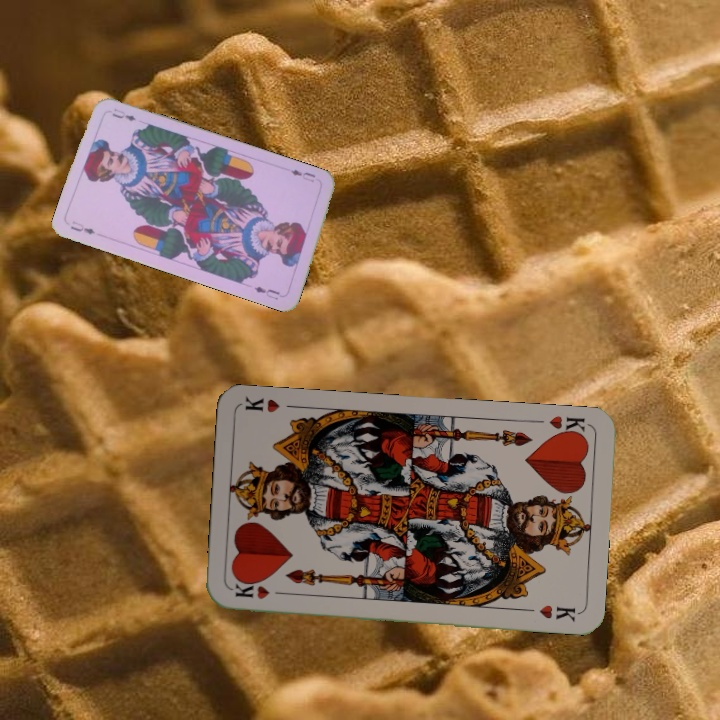EU: (287, 165, 318, 185), (66, 217, 97, 237)
HK: (231, 578, 289, 601), (545, 411, 590, 440)
